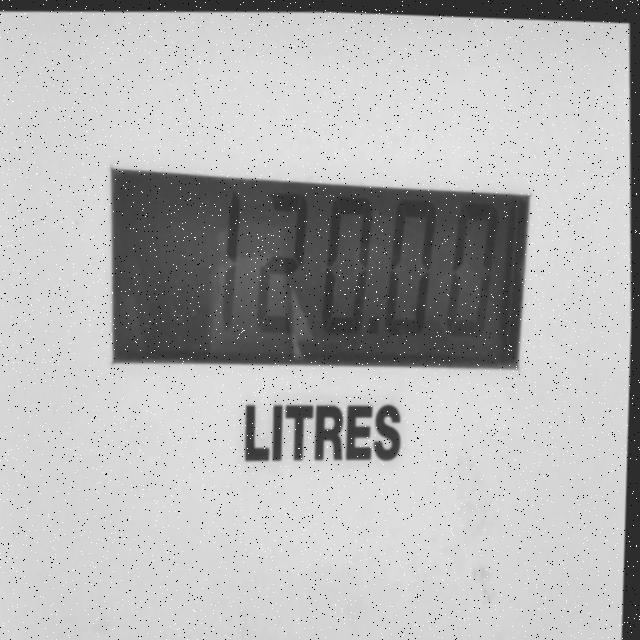.: (366, 307, 389, 348)
0: (306, 177, 380, 349), (440, 184, 506, 349), (381, 187, 445, 355)
1: (213, 175, 263, 346)
2: (249, 163, 322, 343)
